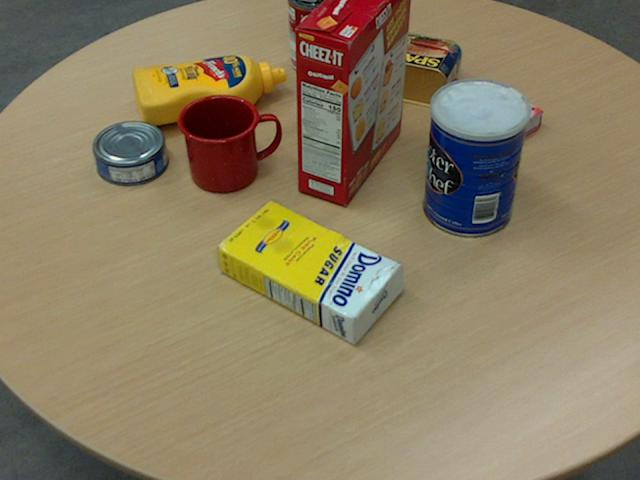cracker_box: (294, 0, 411, 204)
gelatin_box: (451, 85, 541, 152)
large_marker: (311, 23, 326, 111)
master_chef_can: (422, 78, 529, 237)
mug: (176, 93, 279, 191)
mustard_bottle: (131, 54, 285, 124)
potted_meat_can: (370, 32, 461, 107)
sugar_box: (213, 200, 403, 345)
tomato_soup_can: (288, 0, 338, 73)
tuna_fish_can: (91, 119, 167, 184)
